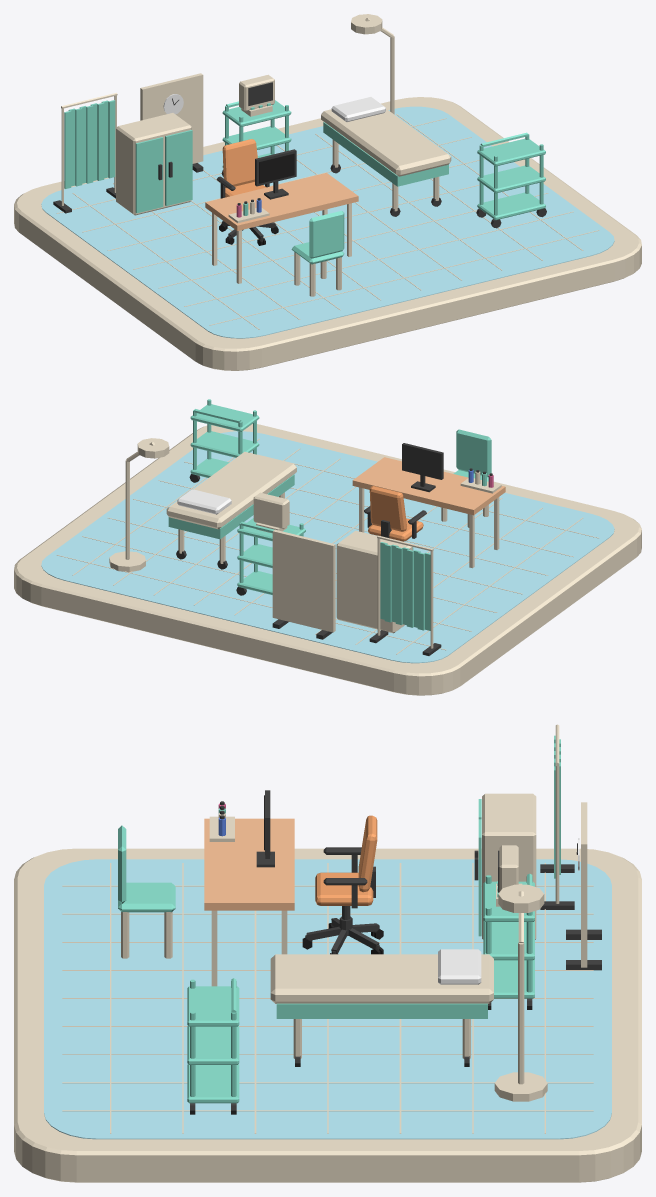
The picture shows the model from 3 angles, top to bottom: view 1: azimuth 30°, elevation 25°; view 2: azimuth 150°, elevation 25°; view 3: azimuth 270°, elevation 25°; orthographic projection. The views are drawn at different scales.
Visible parts, largest first — view 1: COM-02 Floor Surface, COM-01 Rounded Base Direct, Top, Mattress, Equipment case, Panel, COM-04_Chair_blender_direct, Door, Door.001, Backrest, Frame, Tray.002 (+15 smaller); view 2: COM-02 Floor Surface, COM-01 Rounded Base Direct, Panel, Top, Mattress, Equipment case, COM-04_Chair_blender_direct, Frame, Backrest, Housing, Tray.001, Tray.002 (+14 smaller); view 3: COM-02 Floor Surface, COM-01 Rounded Base Direct, Mattress, Top, COM-04_Chair_blender_direct, Equipment case, Base, Tray.002, Tray, Tray.001, Seat, Pillow (+16 smaller).
Part boxes in pixels (x1,y1,x2,y2): COM-02 Floor Surface: (41,106,614,338); COM-01 Rounded Base Direct: (14,97,641,370); Top: (205,173,358,283); Mattress: (321,108,451,176); Equipment case: (116,113,191,215); Panel: (140,73,203,163); COM-04_Chair_blender_direct: (216,139,278,245); Door: (135,137,163,213); Door.001: (165,130,192,206); Backrest: (309,210,344,258); Frame: (255,149,296,199); Tray.002: (477,138,545,166); COM-02 Floor Surface: (41,431,614,663); COM-01 Rounded Base Direct: (14,424,641,695); Panel: (272,529,335,632); Top: (352,457,505,568); Mattress: (166,451,296,529); Equipment case: (336,530,412,633); COM-04_Chair_blender_direct: (364,486,426,541); Frame: (402,443,443,492); Backrest: (456,429,491,476); Housing: (253,492,289,528); Tray.001: (190,431,259,457); Tray.002: (190,404,259,431); COM-02 Floor Surface: (44,859,611,1139); COM-01 Rounded Base Direct: (14,848,641,1182); Mattress: (270,954,493,1003); Top: (204,818,294,986); COM-04_Chair_blender_direct: (302,815,383,954); Equipment case: (482,793,536,939); Base: (276,1008,487,1018); Tray.002: (187,986,239,1026); Tray: (187,1064,239,1103); Tray.001: (187,1026,239,1064); Seat: (118,882,175,912); Pillow: (438,949,481,984).
Bounding box in the file's own units: 6 × 1.96 × 5.2.
1 material, 1 textured.
